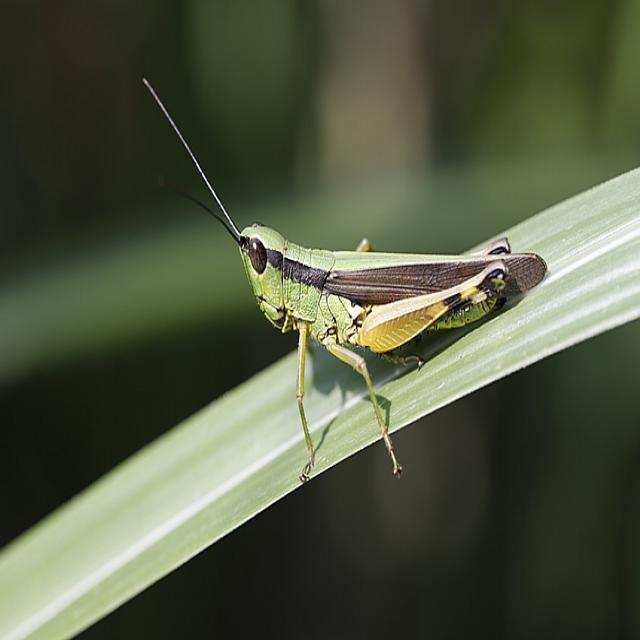ZhaMeng: (188, 144, 558, 384)
